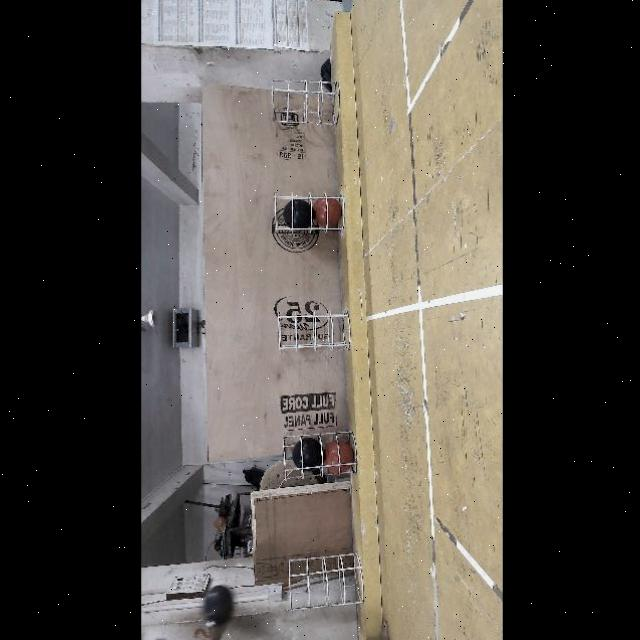P: (292, 440, 322, 470), (284, 200, 310, 232)
R: (312, 195, 342, 227), (324, 440, 352, 474)
S: (282, 553, 368, 613), (278, 428, 356, 479), (268, 79, 339, 133), (268, 190, 344, 234), (272, 309, 352, 349)
